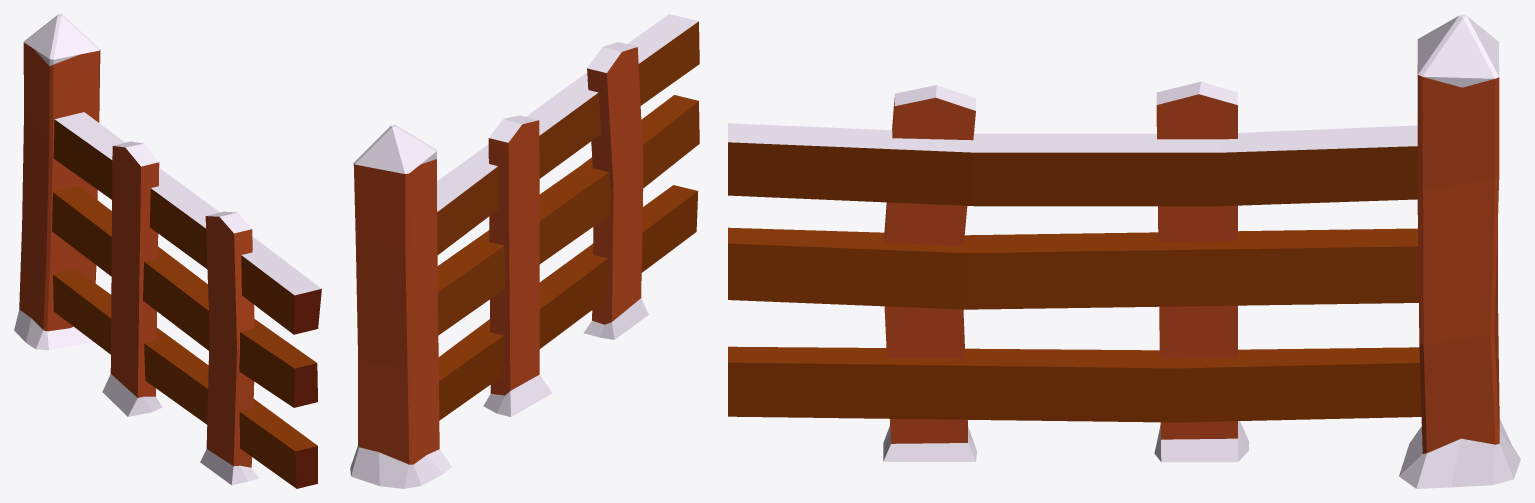
Rendered from low_poly_wood_fence_with_snow.glb.
The picture shows the model from 3 angles, left to right: view 1: azimuth 30°, elevation 25°; view 2: azimuth 150°, elevation 25°; view 3: azimuth 270°, elevation 25°; orthographic projection. The views are drawn at different scales.
Parts seen in each view (by area): view 1: Item5; view 2: Item5; view 3: Item5.
Boxes of the visible parts, x1,y1,x2,y2 form: Item5: (14,14,321,488); Item5: (350,14,699,488); Item5: (728,14,1520,488).
Size of what is drawn, in the model's own units: 0.1841 by 0.7389 by 1.18.
Materials: 1 (1 with a texture image).
